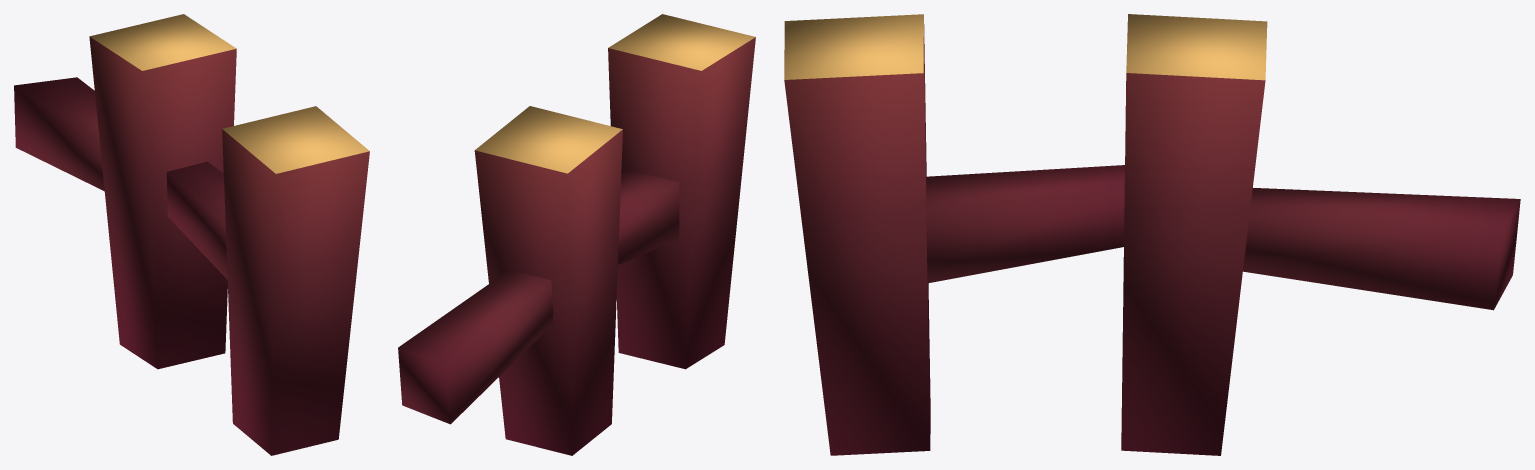
Rendered from fence-straight1.fbx.
3 renders of one model, left to right at view 1: azimuth 30°, elevation 25°; view 2: azimuth 150°, elevation 25°; view 3: azimuth 270°, elevation 25°, orthographic. The views are drawn at different scales.
Visible parts, largest first — view 1: Cylinder.021; view 2: Cylinder.021; view 3: Cylinder.021.
Part boxes in pixels (x1,y1,x2,y2): Cylinder.021: (14, 14, 369, 455); Cylinder.021: (398, 14, 755, 455); Cylinder.021: (784, 14, 1520, 455).
Size of the model in its own units: 4.06 by 12.42 by 21.19.
